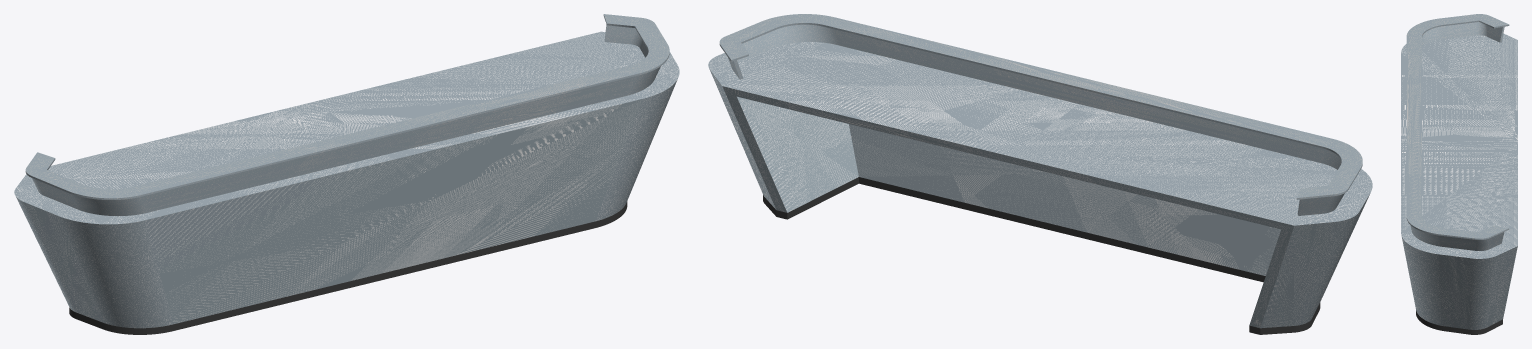
Rendered from resepsionis.obj.
3 renders of one model, left to right at view 1: azimuth 30°, elevation 25°; view 2: azimuth 150°, elevation 25°; view 3: azimuth 270°, elevation 25°, orthographic. The views are drawn at different scales.
Visible parts, largest first — view 1: group_0, group_2, group_1, group_3; view 2: group_0, group_2, group_1, group_3; view 3: group_0, group_1, group_2, group_3.
Part boxes in pixels (x1=…): group_0: x1=14, y1=31, x2=679, y2=328; group_2: x1=32, y1=24, x2=660, y2=216; group_1: x1=25, y1=14, x2=669, y2=199; group_3: x1=69, y1=201, x2=627, y2=334; group_0: x1=708, y1=42, x2=1372, y2=328; group_2: x1=728, y1=24, x2=1344, y2=215; group_1: x1=719, y1=14, x2=1362, y2=199; group_3: x1=763, y1=177, x2=1320, y2=334; group_0: x1=1401, y1=33, x2=1517, y2=329; group_1: x1=1406, y1=14, x2=1509, y2=239; group_2: x1=1410, y1=22, x2=1504, y2=250; group_3: x1=1416, y1=310, x2=1502, y2=334.
Size of the model in its own units: 166 by 37.09 by 35.47.
